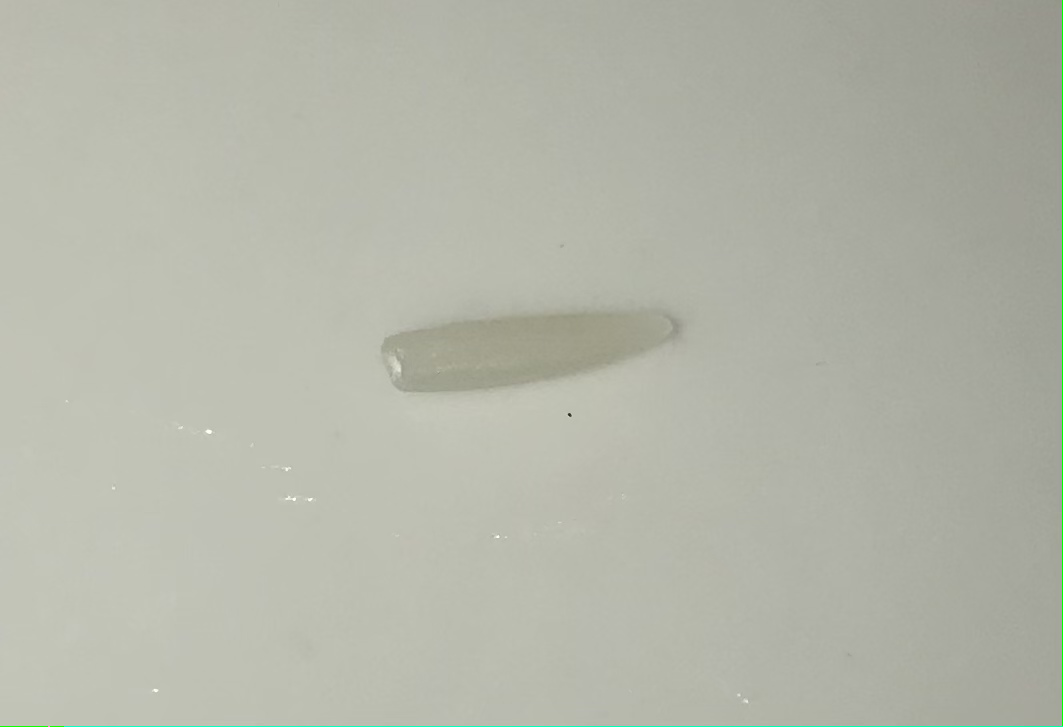Gao Thom Go Cong: (366, 291, 675, 402)
